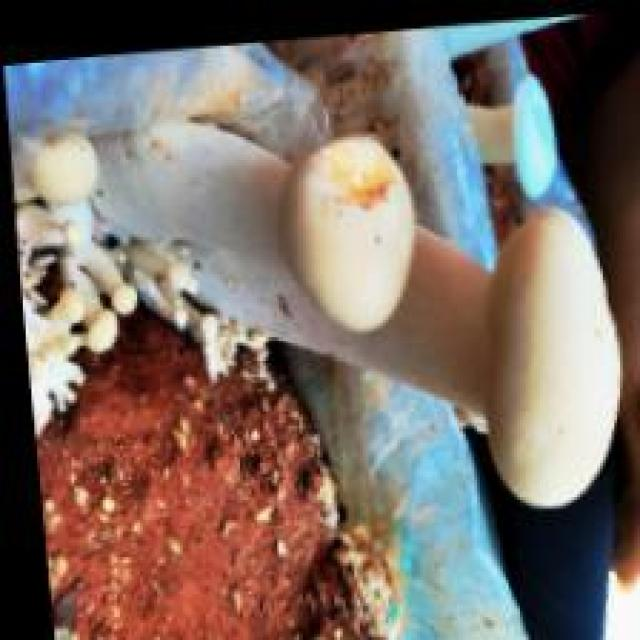field-mushroom: (283, 132, 420, 332)
